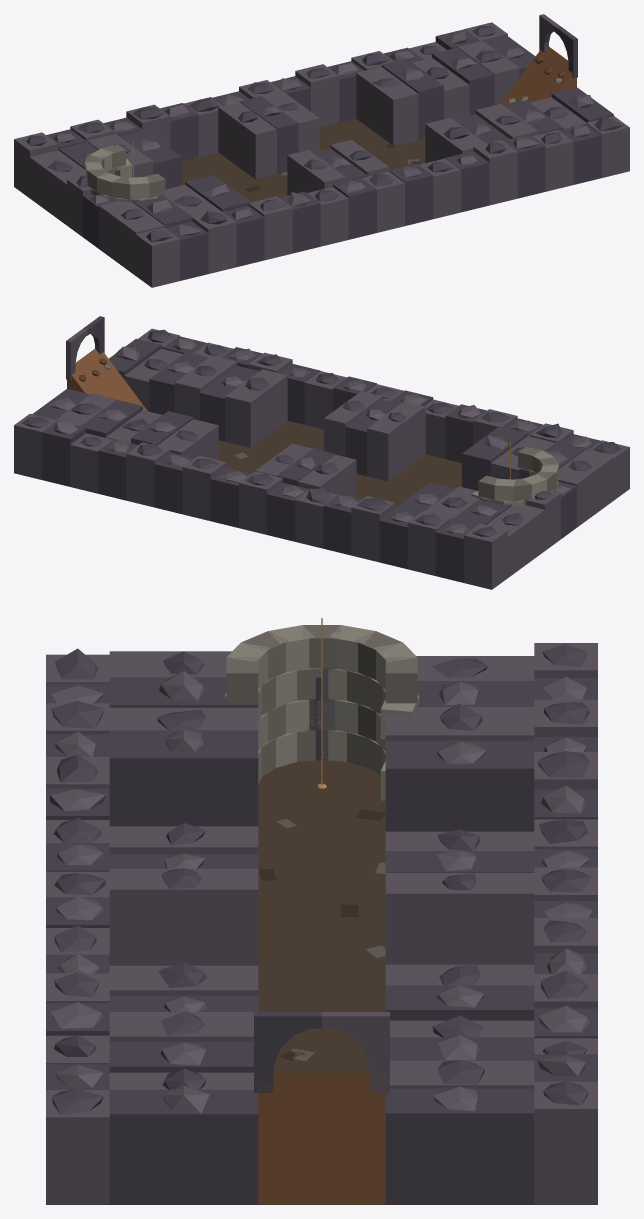
Rendered from prop-cave.glb.
The picture shows the model from 3 angles, top to bottom: view 1: azimuth 30°, elevation 25°; view 2: azimuth 150°, elevation 25°; view 3: azimuth 270°, elevation 25°; orthographic projection. The views are drawn at different scales.
Parts seen in each view (by area): view 1: Cave; view 2: Cave; view 3: Cave.
Part boxes in pixels (<box>): Cave: <box>14,14,629,287</box>; Cave: <box>14,316,629,589</box>; Cave: <box>46,618,597,1204</box>.
Bounding box in the file's own units: 26 × 4.9 × 13.
